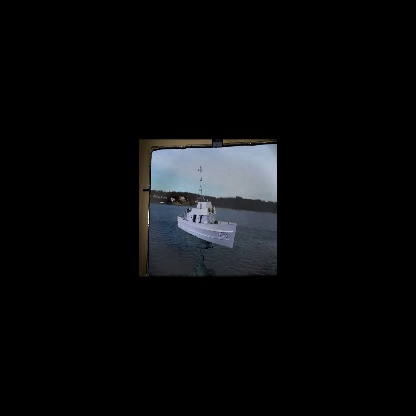YP689: (177, 164, 237, 249)
